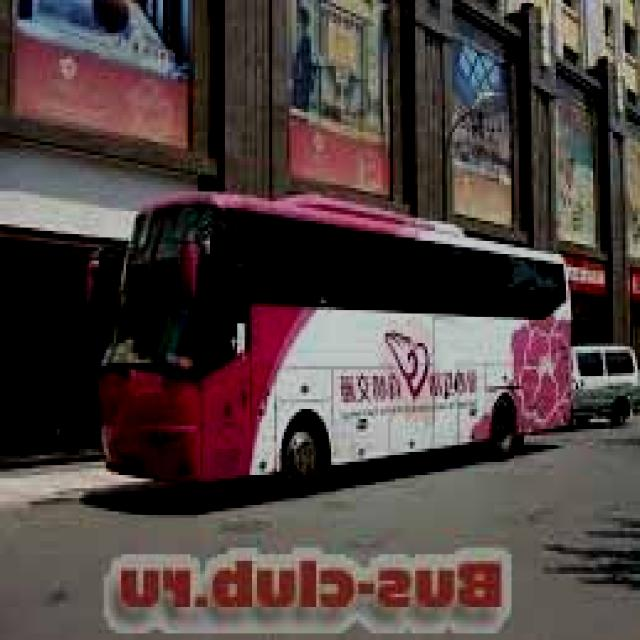bus: (80, 179, 582, 493)
